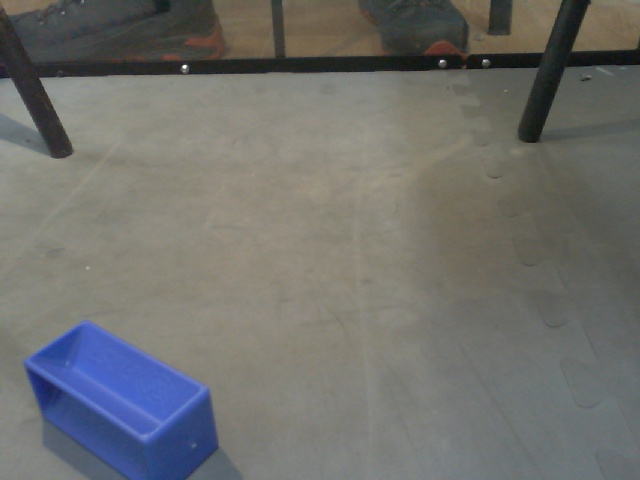BlueSample: (20, 318, 220, 480)
